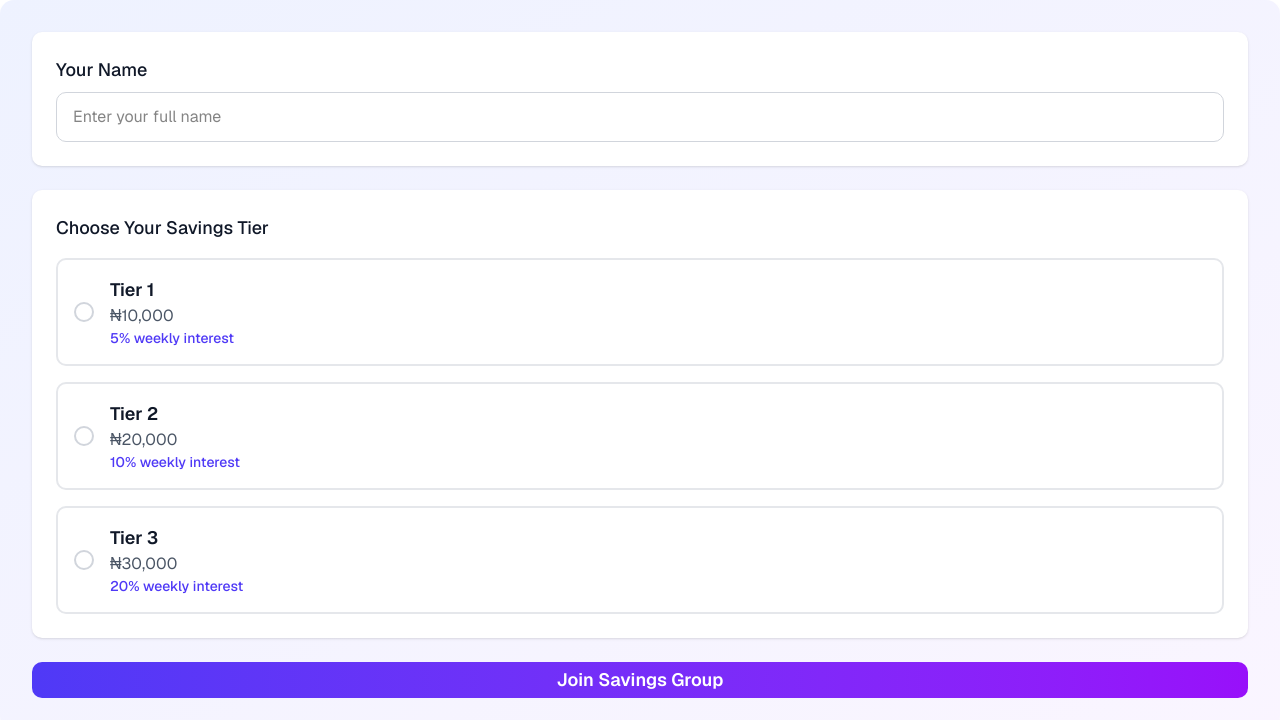
Test: RegistrationForm › submits form with valid data
This screenshot has width=1280, height=720.
Step 1. Type "John Doe" into the field with placeholder "Enter your full name" → (640, 117), box [56, 92, 1224, 142]
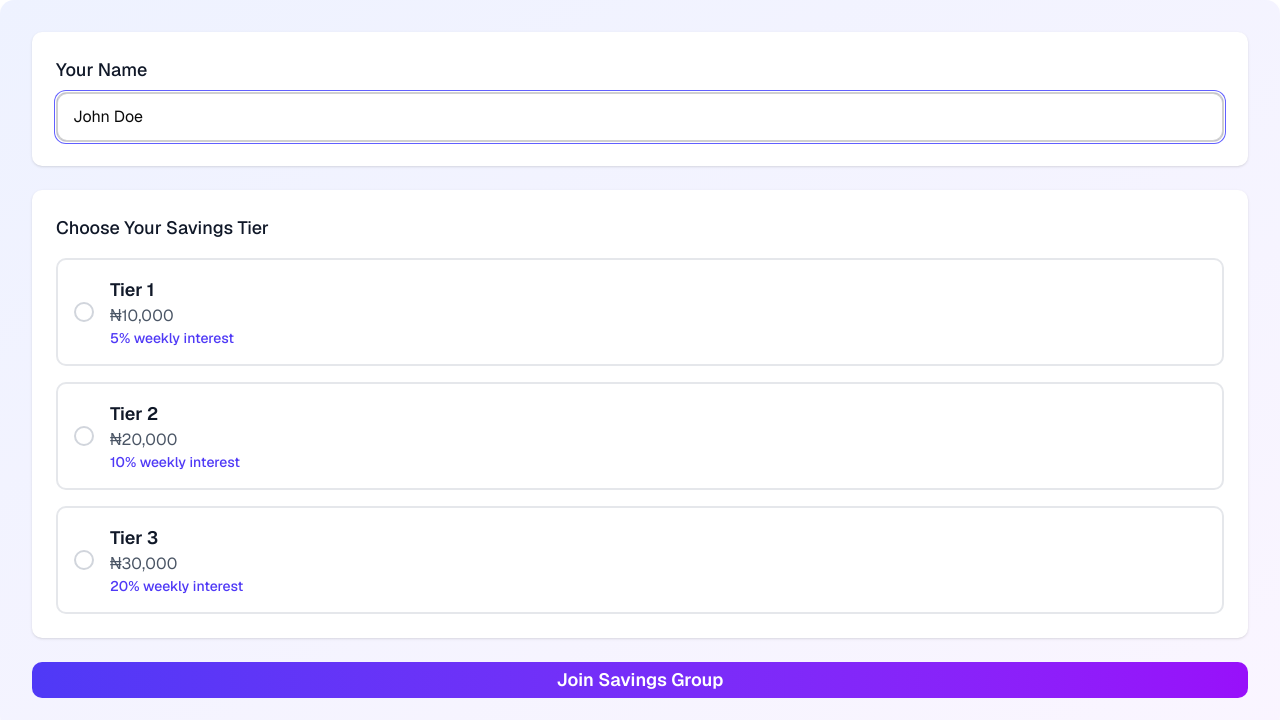
Step 2. Click the heading "Tier 1" → (132, 290), box [110, 278, 154, 301]
(page scrolled)
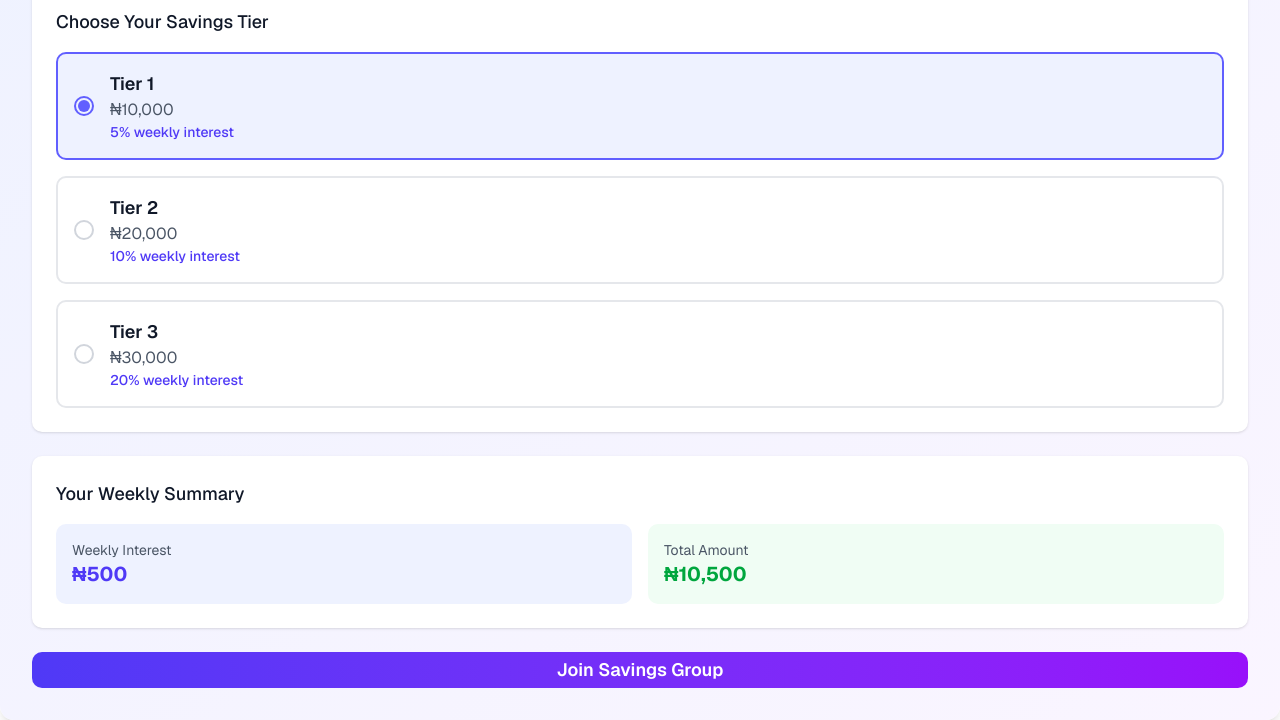
Step 3. Click the button "Join Savings Group" → (640, 670), box [32, 652, 1248, 688]
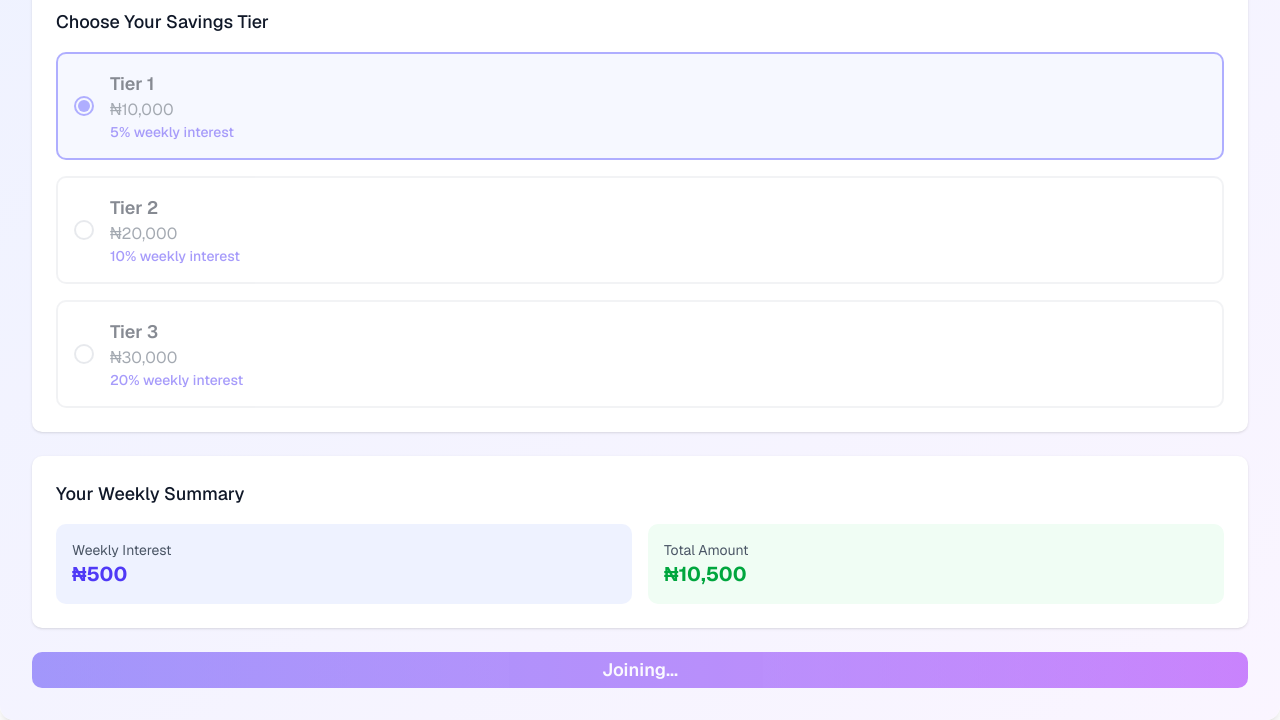
Expected: the button "Joining..." is shown, [32, 652, 1248, 688]
